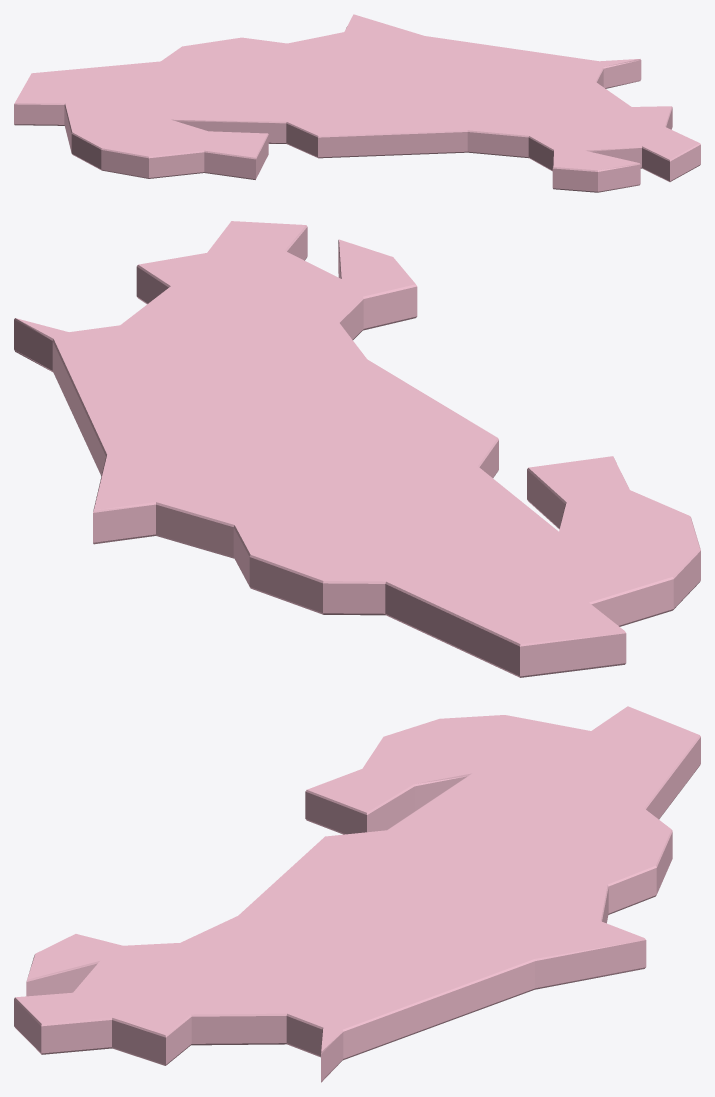
Rendered from CRI.glb.
3 views of the same model, one above another, from view 1: azimuth 30°, elevation 25°; view 2: azimuth 150°, elevation 25°; view 3: azimuth 270°, elevation 25° (orthographic). The views are drawn at different scales.
Size of the model in its own units: 1.64 by 0.068 by 1.37.
